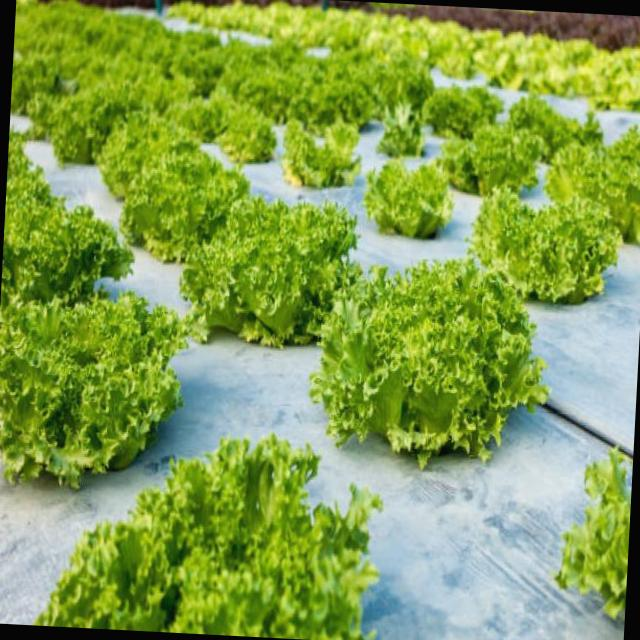Lettuce-Ready-to-Harvest: (43, 428, 390, 640), (316, 261, 556, 476), (0, 293, 190, 491), (185, 198, 372, 342), (0, 186, 142, 310), (466, 198, 628, 300), (123, 155, 250, 239), (368, 162, 455, 235)
